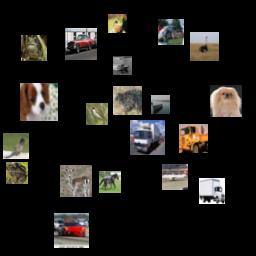airplane: (162, 164, 188, 190)
automobile: (54, 213, 89, 248), (65, 28, 97, 60)
bird: (190, 32, 219, 61), (3, 133, 29, 159), (86, 103, 108, 125)
deer: (60, 165, 92, 197)
dog: (20, 83, 58, 121), (210, 85, 242, 117)
frog: (113, 86, 142, 115), (21, 35, 47, 61), (6, 162, 28, 184), (108, 14, 127, 33)
ship: (151, 95, 170, 114), (113, 56, 132, 75)
truck: (130, 120, 165, 155), (179, 124, 208, 153), (199, 178, 225, 204)
